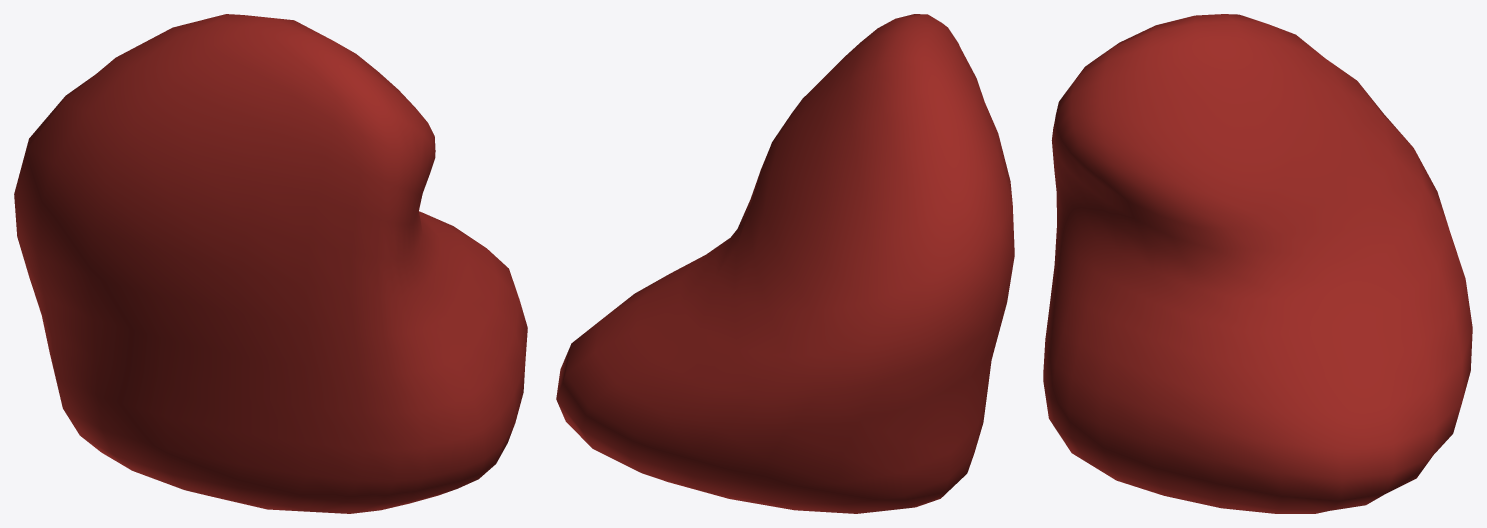
Rendered from Organic_Blob_005.fbx.
3 renders of one model, left to right at view 1: azimuth 30°, elevation 25°; view 2: azimuth 150°, elevation 25°; view 3: azimuth 270°, elevation 25°, orthographic. The views are drawn at different scales.
Parts seen in each view (by area): view 1: Cube.006; view 2: Cube.006; view 3: Cube.006.
Boxes of the visible parts, x1,y1,x2,y2 form: Cube.006: [14, 14, 527, 513]; Cube.006: [556, 14, 1014, 513]; Cube.006: [1043, 14, 1472, 513].
Bounding box in the file's own units: 578 × 566 × 538.
